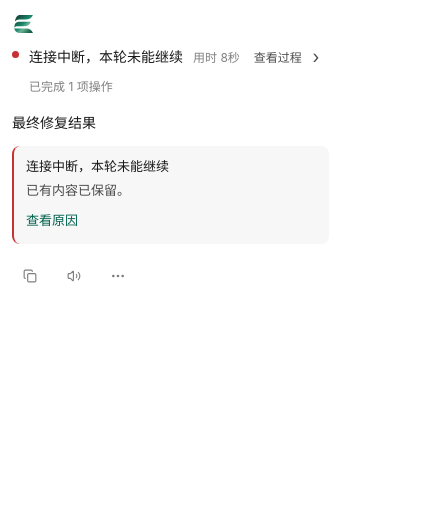
Test: assistant execution process › 已有答案的失败过程保持紧凑，异常状态和详情仍可查看
Expected: the text "最终修复结果" is shown, [12,114,96,131]
Click the button "查看过程 ›" at x=289, y=57, box [250,42,329,72]
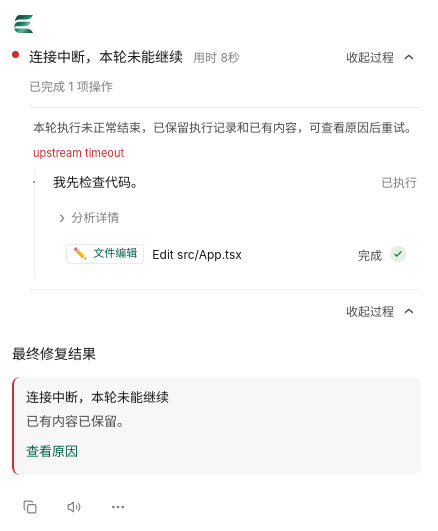
Result: the text "upstream timeout" is shown at [33,146,124,160]
